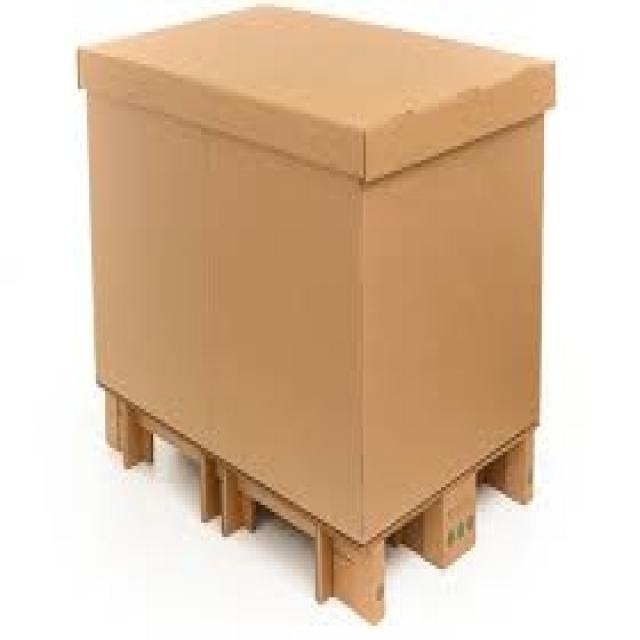cardboard paper: (78, 6, 552, 620)
